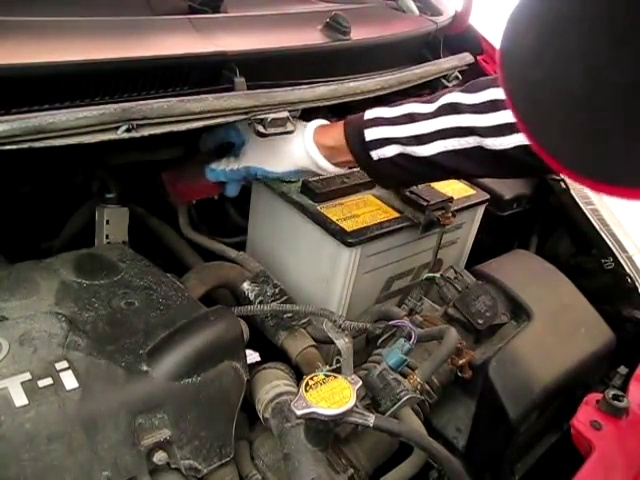battery: (244, 145, 495, 228)
